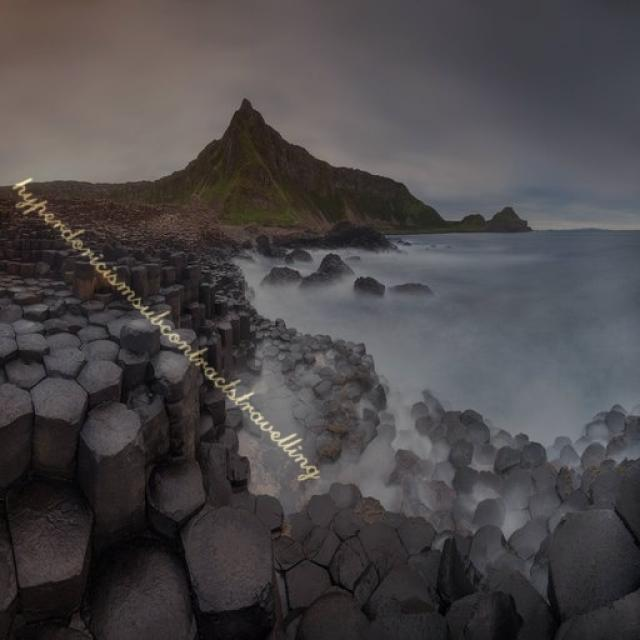watermark: (6, 166, 334, 485)
